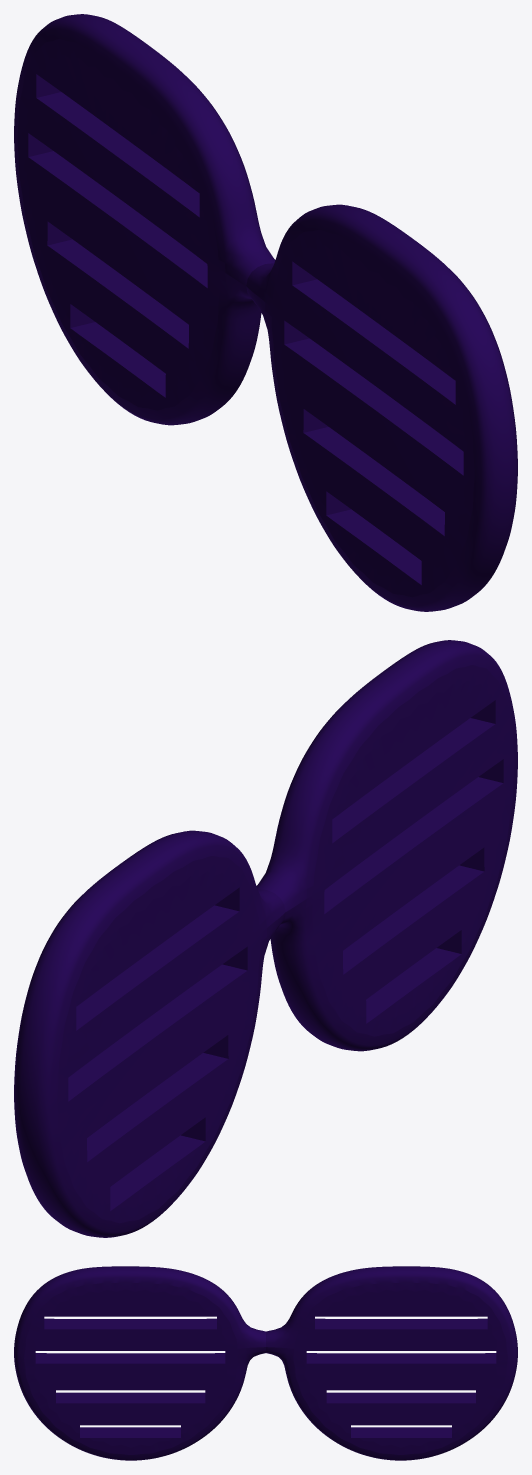
The picture shows the model from 3 angles, top to bottom: view 1: azimuth 30°, elevation 25°; view 2: azimuth 150°, elevation 25°; view 3: azimuth 270°, elevation 25°; orthographic projection. The views are drawn at different scales.
Visible parts, largest first — view 1: glass; view 2: glass; view 3: glass.
Part boxes in pixels (x1,y1,x2,y2): glass: [14, 14, 517, 611]; glass: [14, 640, 517, 1237]; glass: [14, 1266, 517, 1460].
Bounding box in the file's own units: 0.00861 × 0.0697 × 0.1671.
